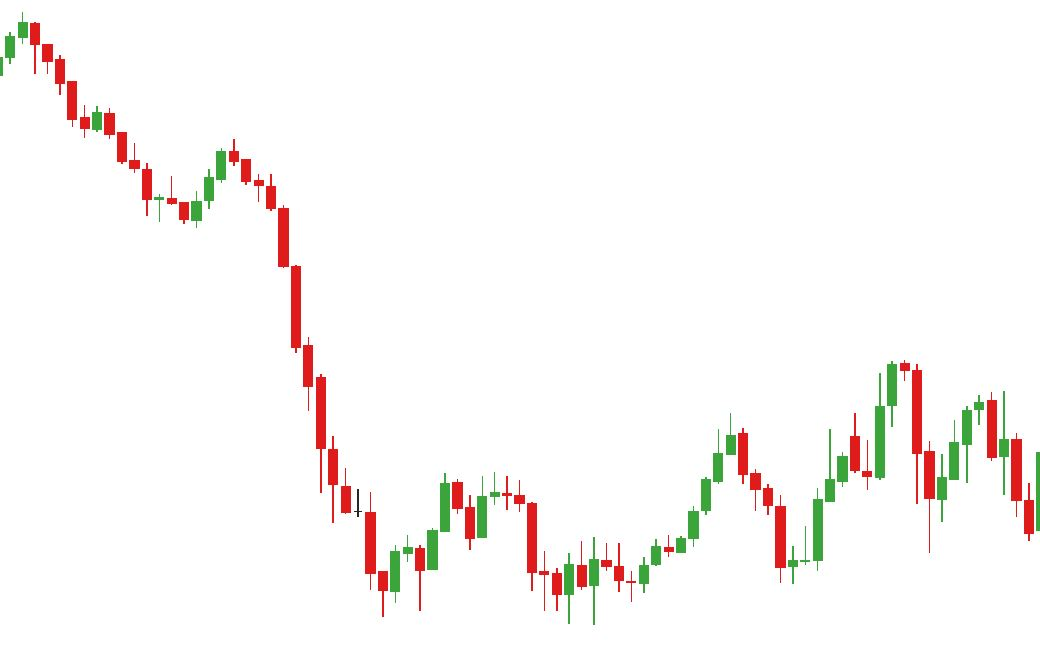buy: (412, 519, 573, 624)
